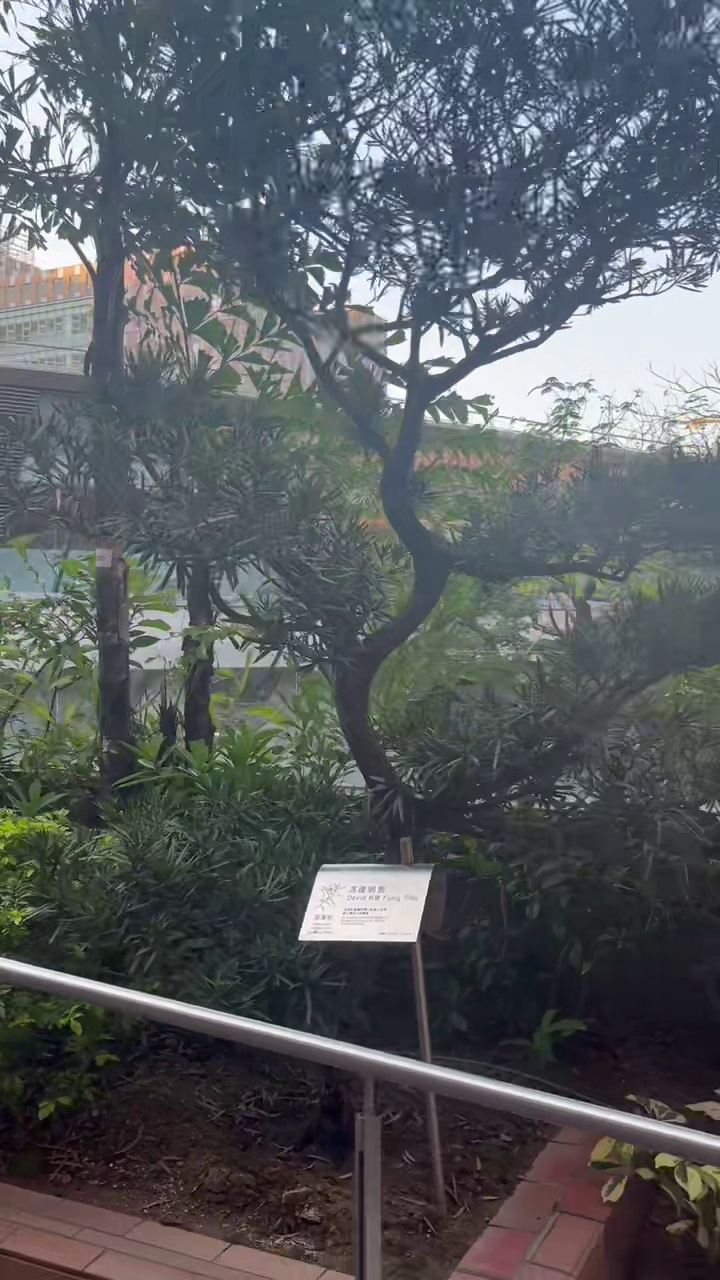Podocarpus macrophyllus: (42, 0, 719, 833)
